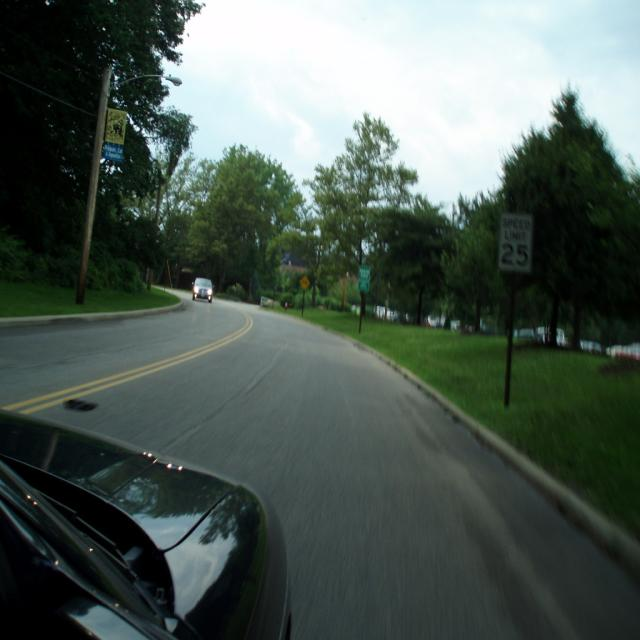car: (191, 277, 211, 301)
